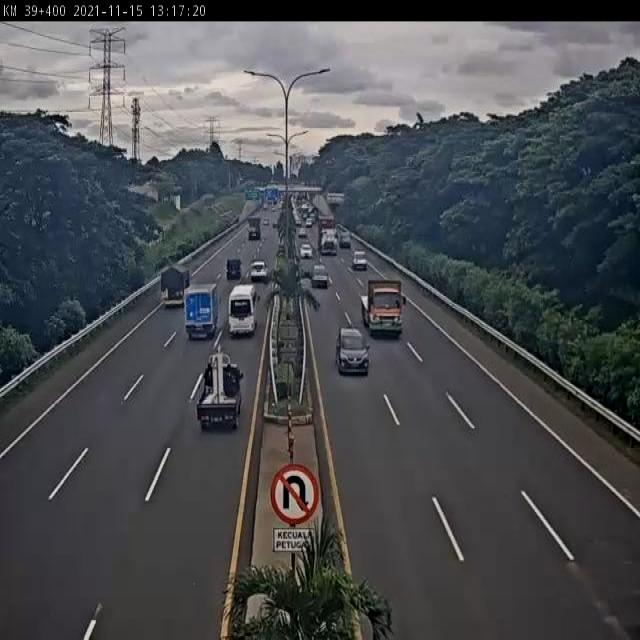Car: (336, 326, 370, 376), (311, 264, 329, 288), (250, 260, 269, 282), (352, 252, 368, 270), (299, 244, 313, 259), (338, 232, 351, 248), (298, 227, 307, 238), (305, 218, 313, 228), (262, 217, 270, 226), (295, 218, 302, 226), (272, 220, 277, 229), (271, 207, 276, 213)
Truck: (196, 345, 246, 432), (361, 278, 407, 338), (182, 281, 222, 340), (160, 265, 190, 308), (316, 215, 338, 256), (247, 217, 261, 240)
Van: (227, 283, 260, 338), (226, 257, 241, 279)
